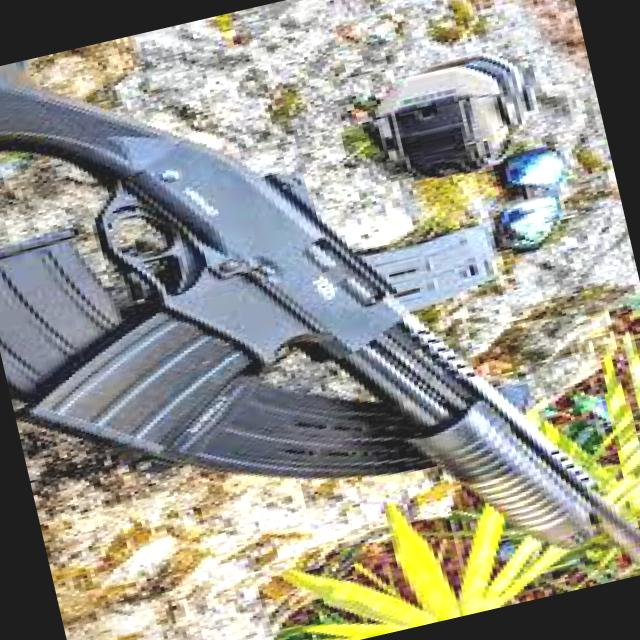long weapon: (0, 31, 640, 619)
